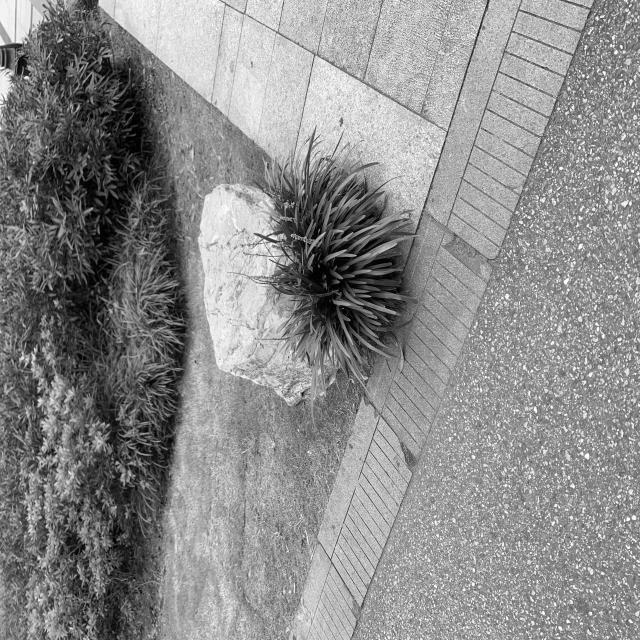Stone: (199, 185, 311, 406)
